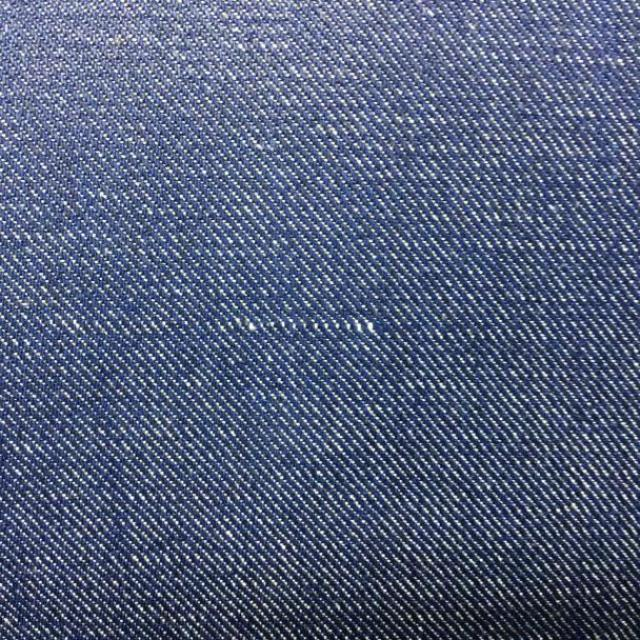Knot: (236, 318, 376, 334)
